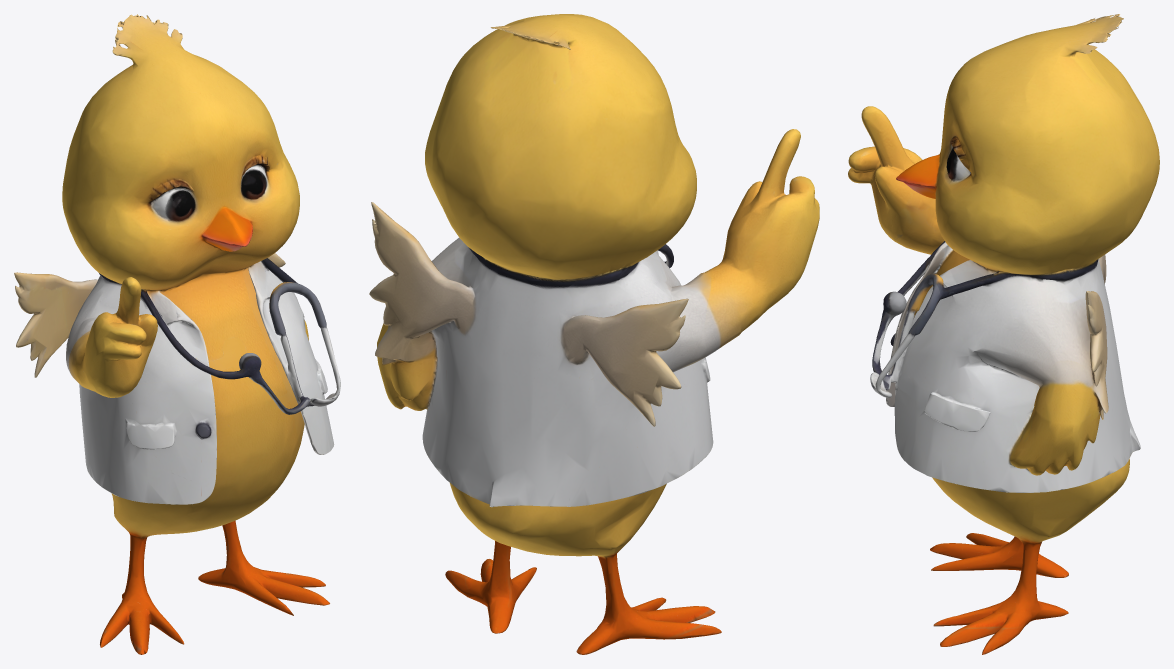
The model's file is Char_ChickDoctor.glb.
3 renders of one model, left to right at view 1: azimuth 30°, elevation 25°; view 2: azimuth 150°, elevation 25°; view 3: azimuth 270°, elevation 25°, orthographic. The views are drawn at different scales.
Bounding box in the file's own units: 1.05 × 1.9 × 0.9333.
Materials: 1 (1 with a texture image).
